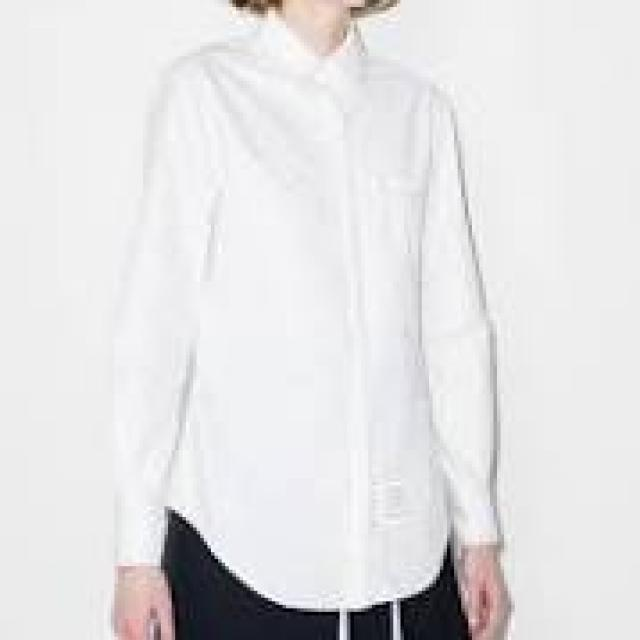plain: (112, 15, 534, 616)
